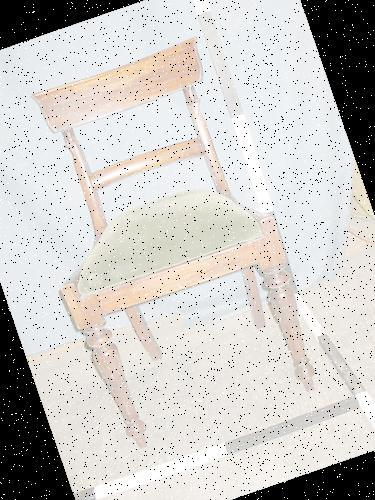Silla: (0, 19, 334, 461)
